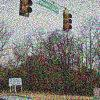traffic lights: (62, 9, 73, 32)
